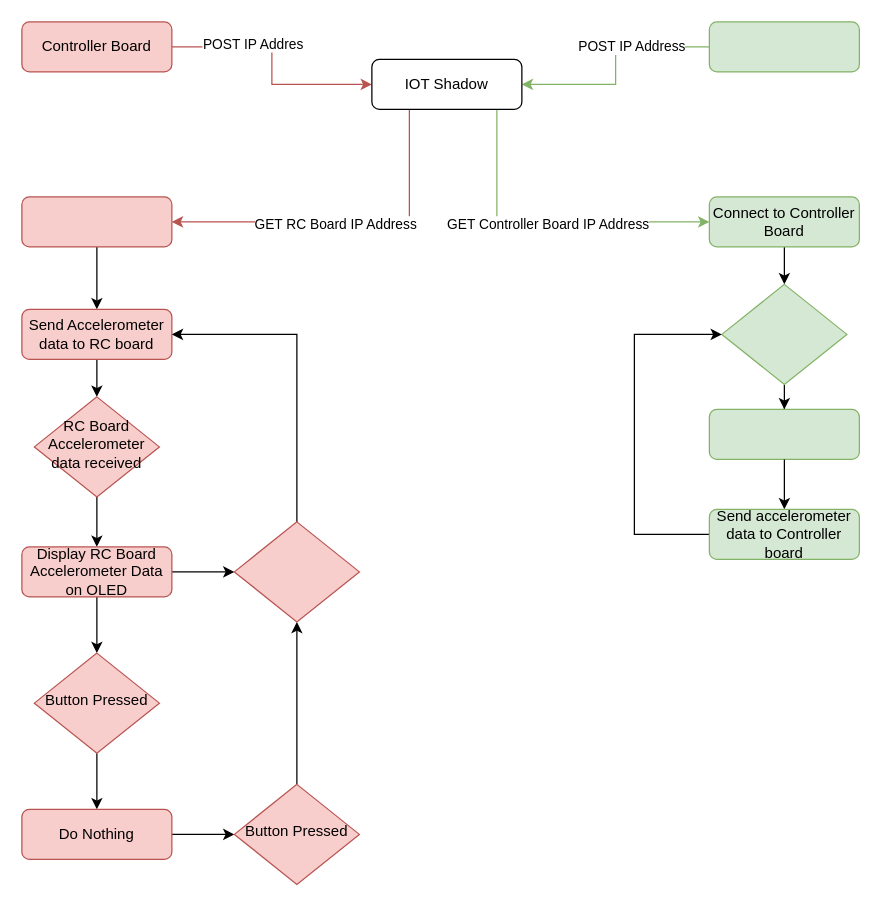
Some shapes in this 881 by 906 pixel diagram are drawn without their labels. Each missing label, with the box of its shape:
Button Not pressed: (233, 521, 359, 622)
Connect To RC Board: (21, 196, 172, 247)
Controller Board Accelerometer Data Received: (721, 283, 847, 384)
Move motors according to accelerometer Data: (708, 408, 859, 459)
RC Board: (708, 21, 859, 72)
